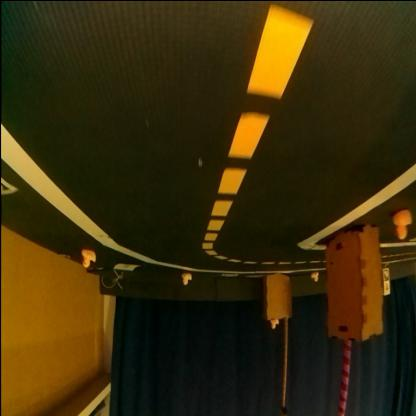Duckie: (394, 210, 412, 240), (80, 249, 96, 268), (182, 273, 192, 285), (310, 272, 318, 282), (271, 318, 278, 328)
Intersection sign: (384, 282, 390, 294)
QR code: (383, 269, 389, 280)
